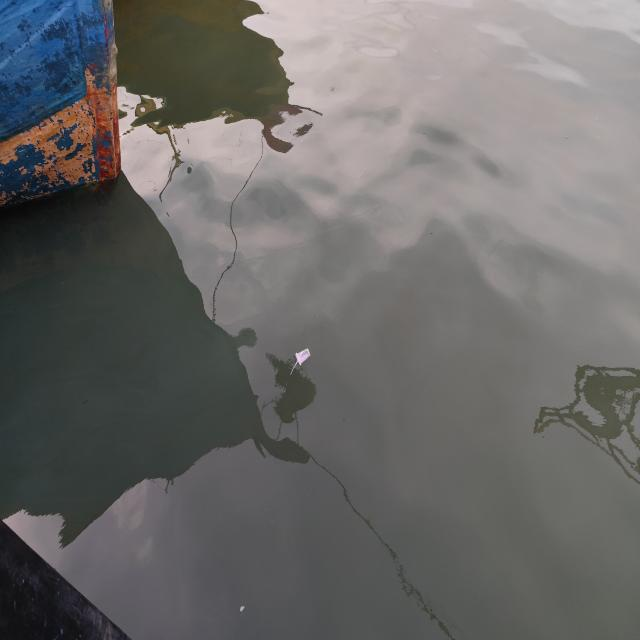Bungkus Minuman: (287, 343, 316, 379)
